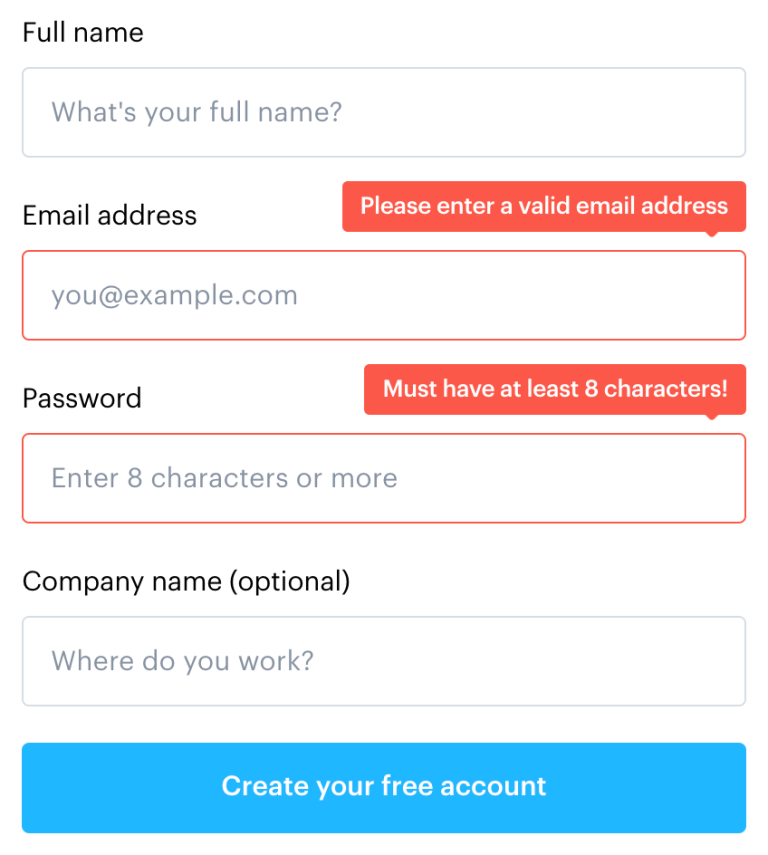error_field: (21, 249, 747, 343), (23, 433, 749, 524)
error_message: (359, 191, 728, 218), (383, 378, 730, 399)
